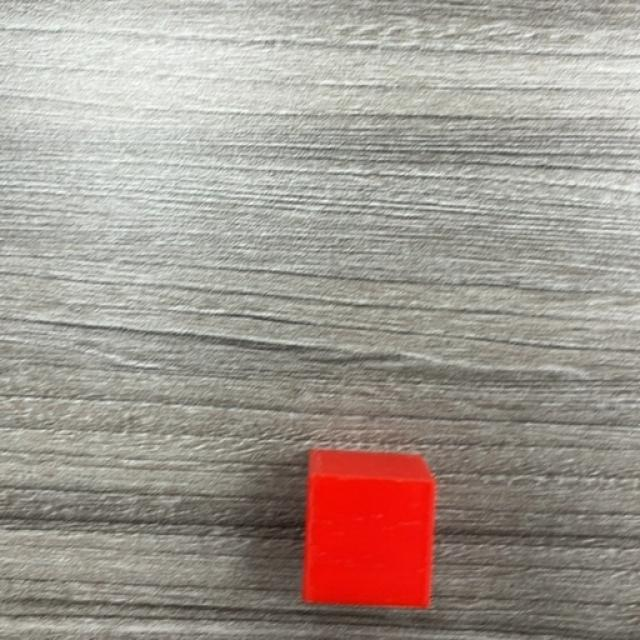Rojo: (301, 452, 439, 610)
